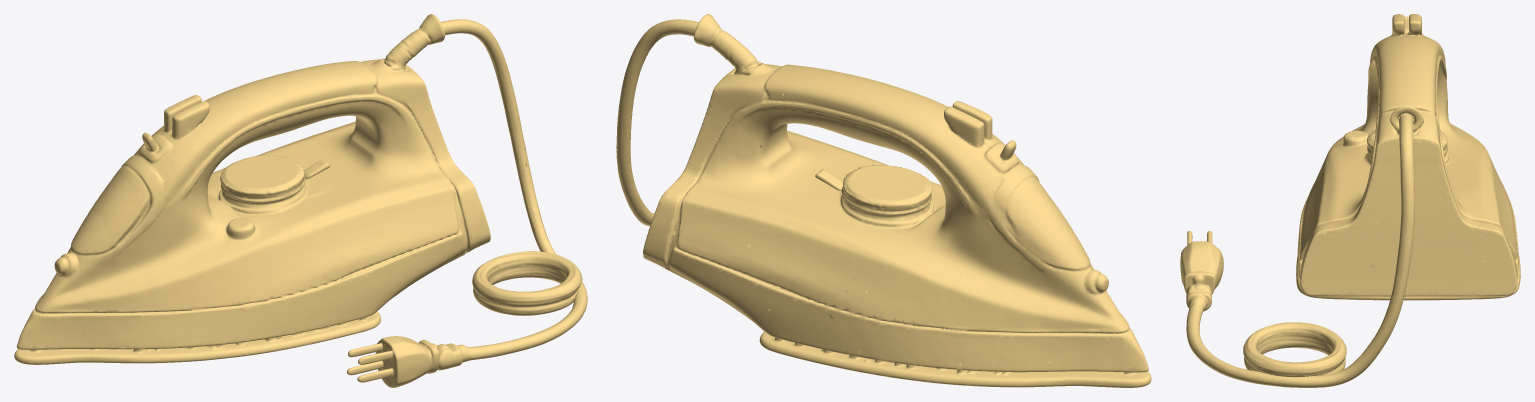
Rendered from plancha.glb.
3 renders of one model, left to right at view 1: azimuth 30°, elevation 25°; view 2: azimuth 150°, elevation 25°; view 3: azimuth 270°, elevation 25°, orthographic. The views are drawn at different scales.
Visible parts, largest first — view 1: plancha; view 2: plancha; view 3: plancha.
Part boxes in pixels (x1,y1,x2,y2): plancha: [14, 14, 587, 387]; plancha: [616, 14, 1151, 387]; plancha: [1180, 14, 1520, 387].
Bounding box in the file's own units: 1 × 0.4863 × 0.5931.
